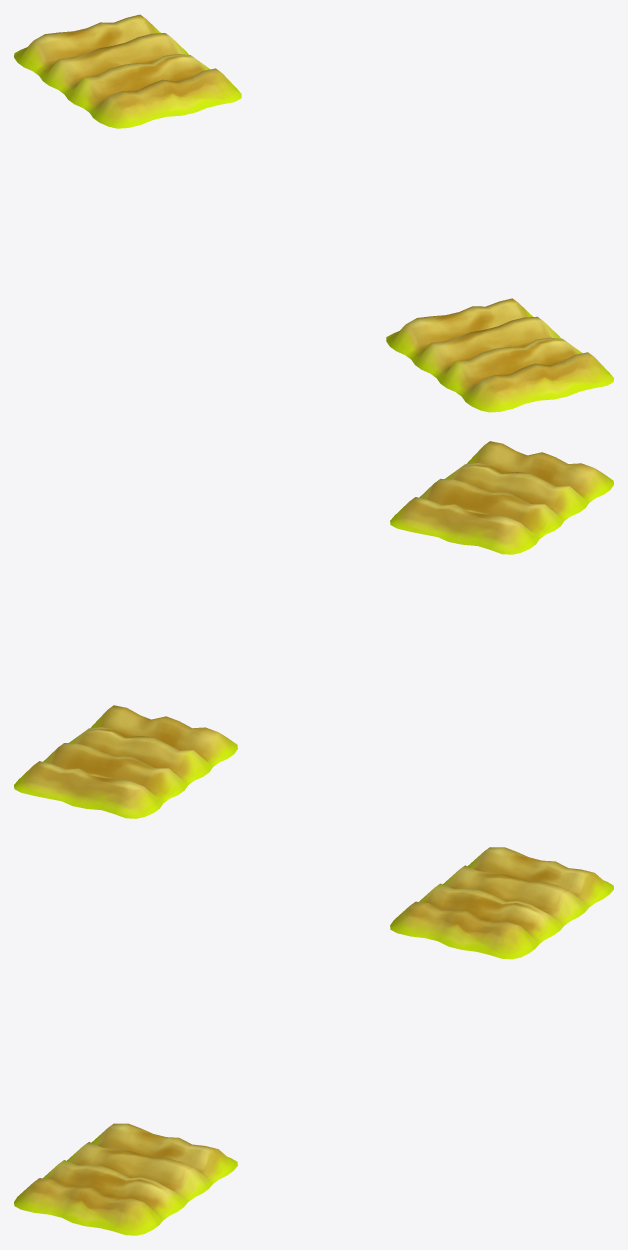
The model's file is pumpkinA.fbx.
3 views of the same model, one above another, from view 1: azimuth 30°, elevation 25°; view 2: azimuth 150°, elevation 25°; view 3: azimuth 330°, elevation 25° (orthographic).
Visible parts, largest first — view 1: pumpkinA; view 2: pumpkinA; view 3: pumpkinA.
Boxes of the visible parts, x1,y1,x2,y2 form: pumpkinA: [14, 14, 613, 412]; pumpkinA: [14, 441, 613, 818]; pumpkinA: [14, 847, 613, 1235].
Bounding box in the file's own units: 405 × 75.19 × 2385.
Materials: 1 (1 with a texture image).
